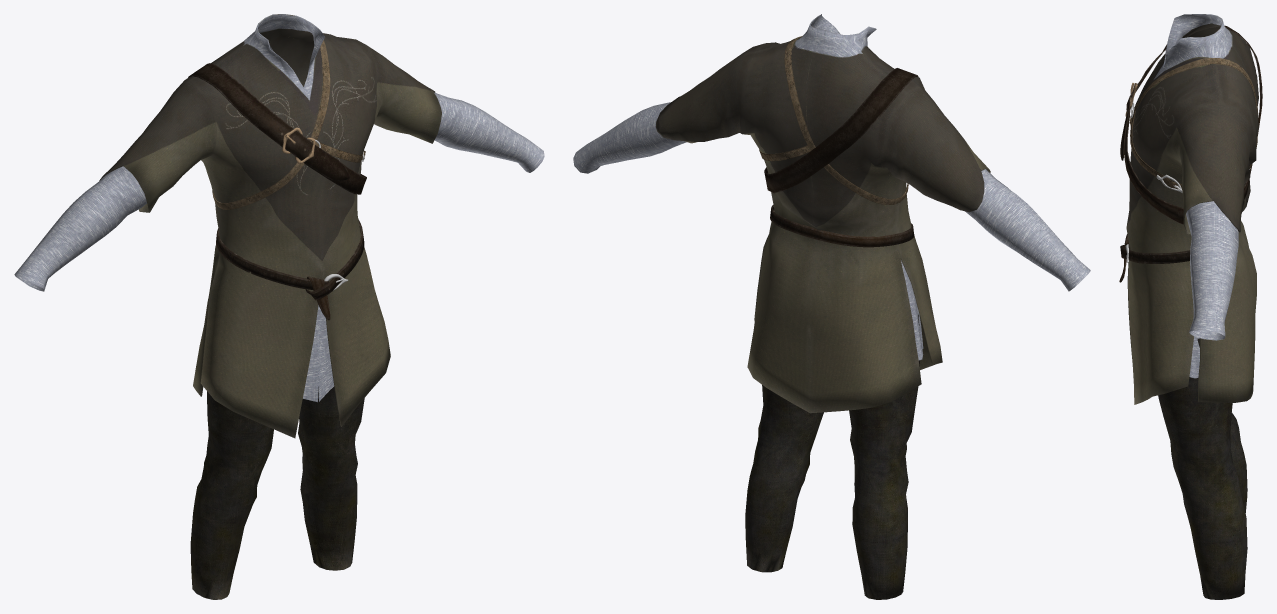
Rendered from legolas_body.fbx.
3 renders of one model, left to right at view 1: azimuth 30°, elevation 25°; view 2: azimuth 150°, elevation 25°; view 3: azimuth 270°, elevation 25°, orthographic. The views are drawn at different scales.
Visible parts, largest first — view 1: legolas_body; view 2: legolas_body; view 3: legolas_body.
Part boxes in pixels (x1,y1,x2,y2): legolas_body: (14,14,544,599); legolas_body: (573,14,1090,599); legolas_body: (1119,14,1262,599).
Size of the model in its own units: 1.37 by 0.3357 by 1.41.
Materials: 1 (1 with a texture image).
